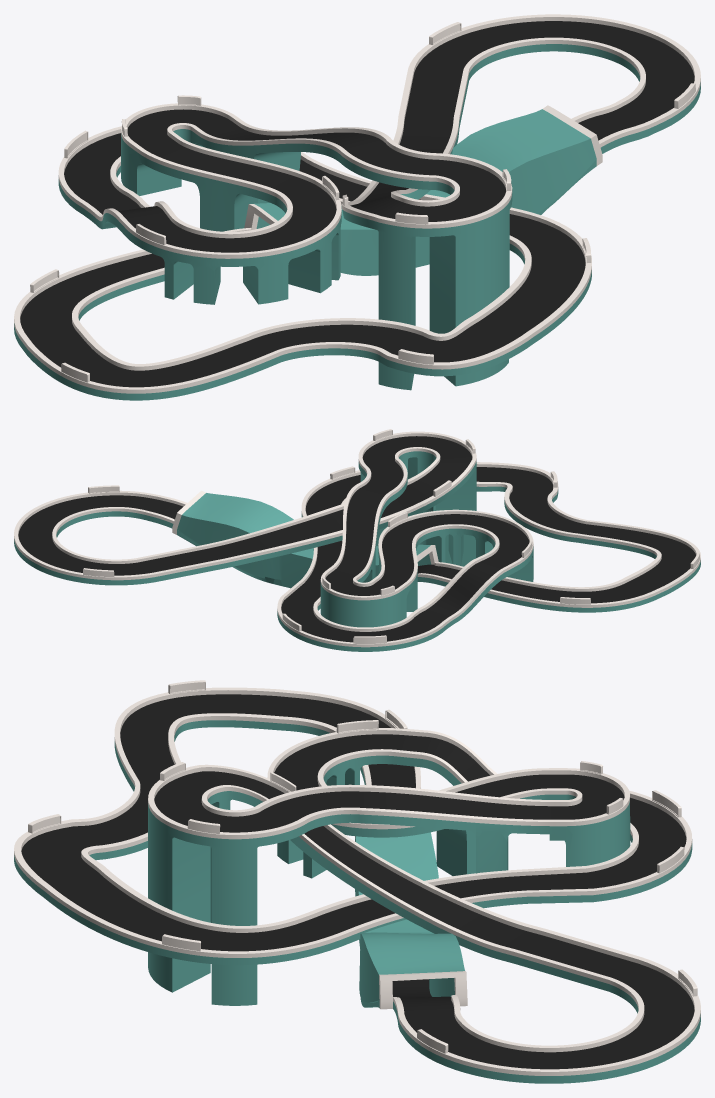
Rendered from trackwsign.fbx.
3 views of the same model, one above another, from view 1: azimuth 30°, elevation 25°; view 2: azimuth 150°, elevation 25°; view 3: azimuth 270°, elevation 25° (orthographic). The views are drawn at different scales.
Visible parts, largest first — view 1: Track; view 2: Track; view 3: Track.
Boxes of the visible parts, left/top/right/bottom form: Track: left=14, top=14, right=700, bottom=400; Track: left=14, top=429, right=700, bottom=651; Track: left=14, top=680, right=700, bottom=1083.
Size of the model in its own units: 11742 by 2482 by 8597.
